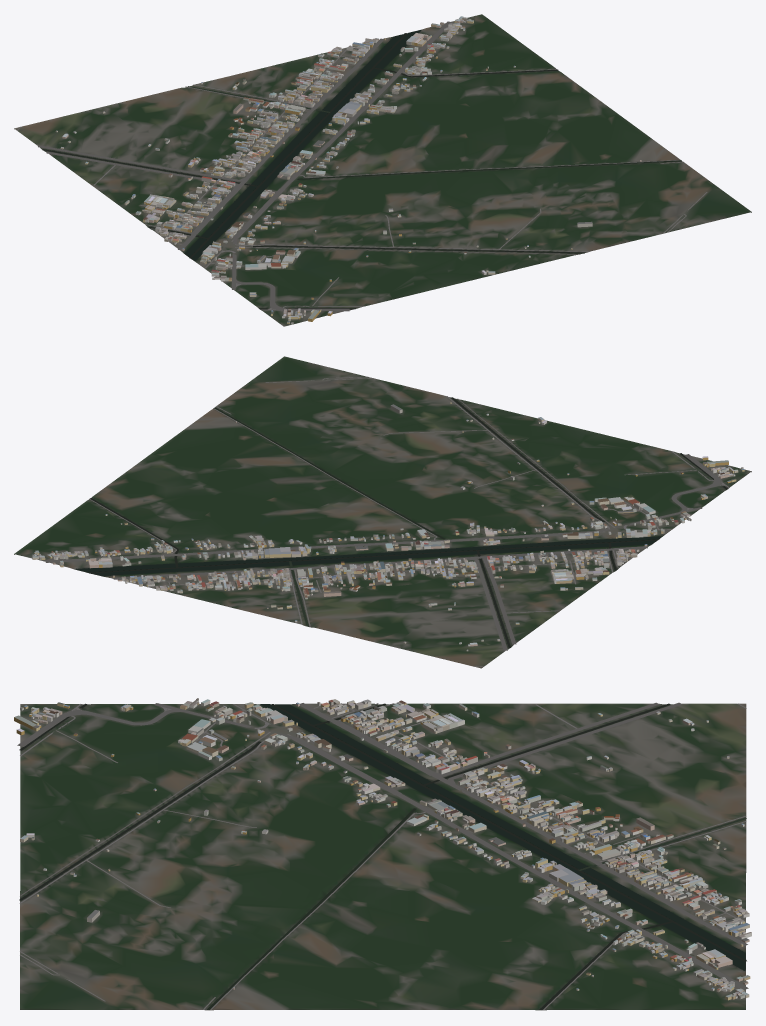
The picture shows the model from 3 angles, top to bottom: view 1: azimuth 30°, elevation 25°; view 2: azimuth 150°, elevation 25°; view 3: azimuth 270°, elevation 25°; orthographic projection. The views are drawn at different scales.
Parts seen in each view (by area): view 1: ground, buildings, roads, water; view 2: ground, buildings, water, roads; view 3: ground, buildings, roads, water.
Boxes of the visible parts, bbox=[...] form: ground: bbox=[14, 14, 751, 326]; buildings: bbox=[55, 16, 641, 324]; roads: bbox=[17, 21, 707, 311]; water: bbox=[42, 29, 681, 309]; ground: bbox=[14, 356, 751, 668]; buildings: bbox=[32, 402, 744, 651]; water: bbox=[75, 397, 727, 647]; roads: bbox=[45, 376, 729, 666]; ground: bbox=[20, 703, 746, 1010]; buildings: bbox=[14, 698, 751, 1000]; roads: bbox=[17, 702, 748, 1009]; water: bbox=[19, 703, 746, 1010].
Bounding box in the file's own units: 1419 × 19.94 × 1424.
